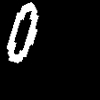chain: (7, 2, 38, 62)
